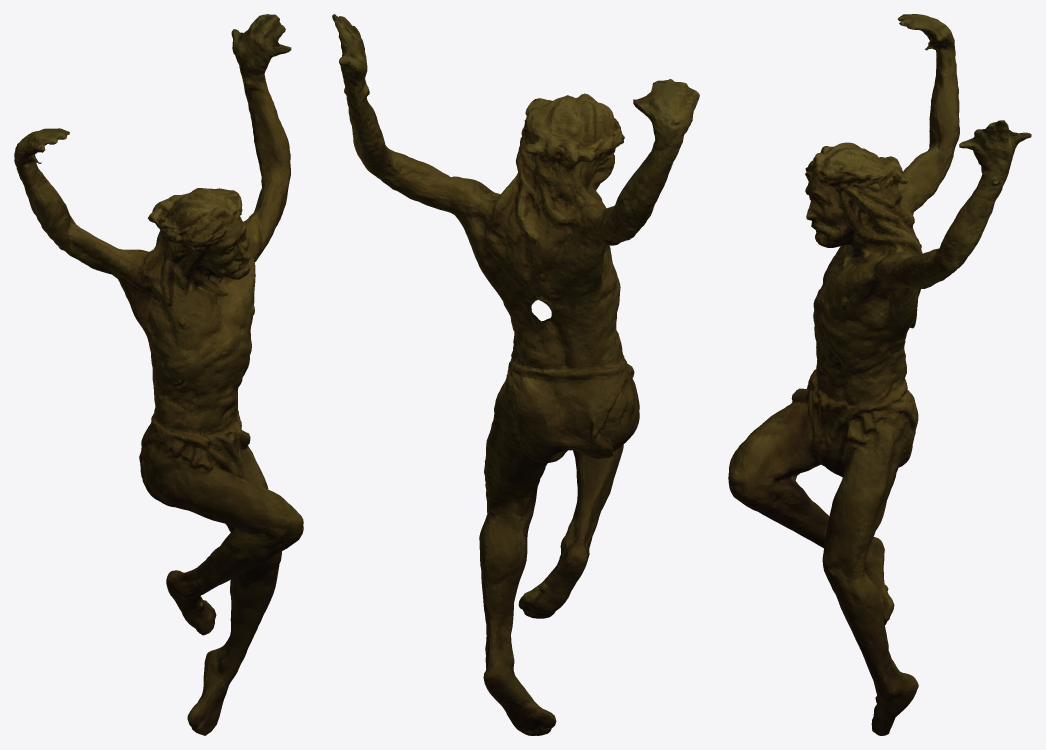
File: WLC - Mighty Victim - Patina.glb
The picture shows the model from 3 angles, left to right: view 1: azimuth 30°, elevation 25°; view 2: azimuth 150°, elevation 25°; view 3: azimuth 270°, elevation 25°; orthographic projection. The views are drawn at different scales.
Parts seen in each view (by area): view 1: mesh_0; view 2: mesh_0; view 3: mesh_0.
Part boxes in pixels (box(x1,y1,x2,y2)): mesh_0: box(14, 14, 303, 735); mesh_0: box(332, 14, 699, 735); mesh_0: box(728, 14, 1031, 735).
Size of the model in its own units: 0.8741 by 1.87 by 0.7634.
1 material, 1 textured.
